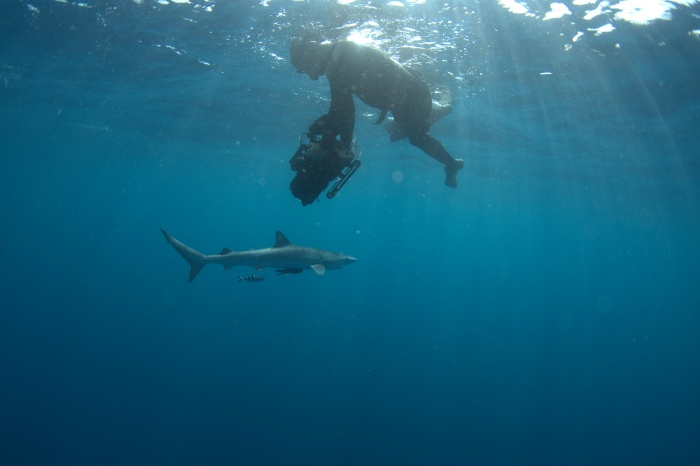Azul: (147, 217, 364, 297)
